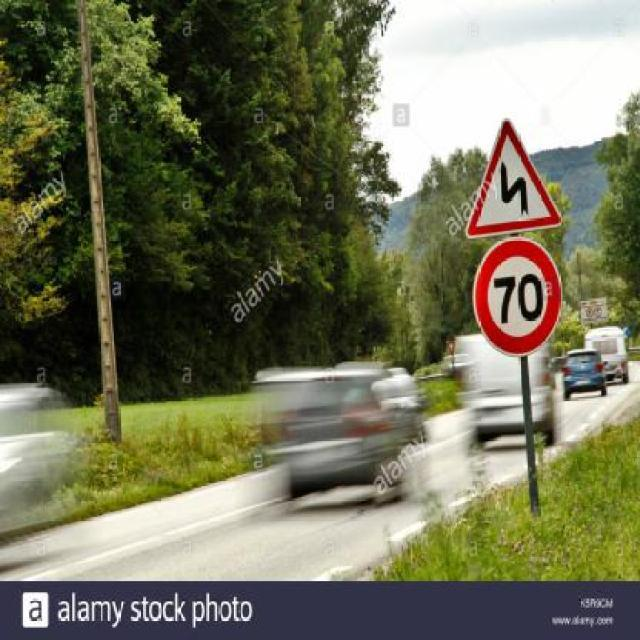forb_speed_over_70: (473, 240, 569, 349)
warn_double_curve: (457, 106, 579, 240)
